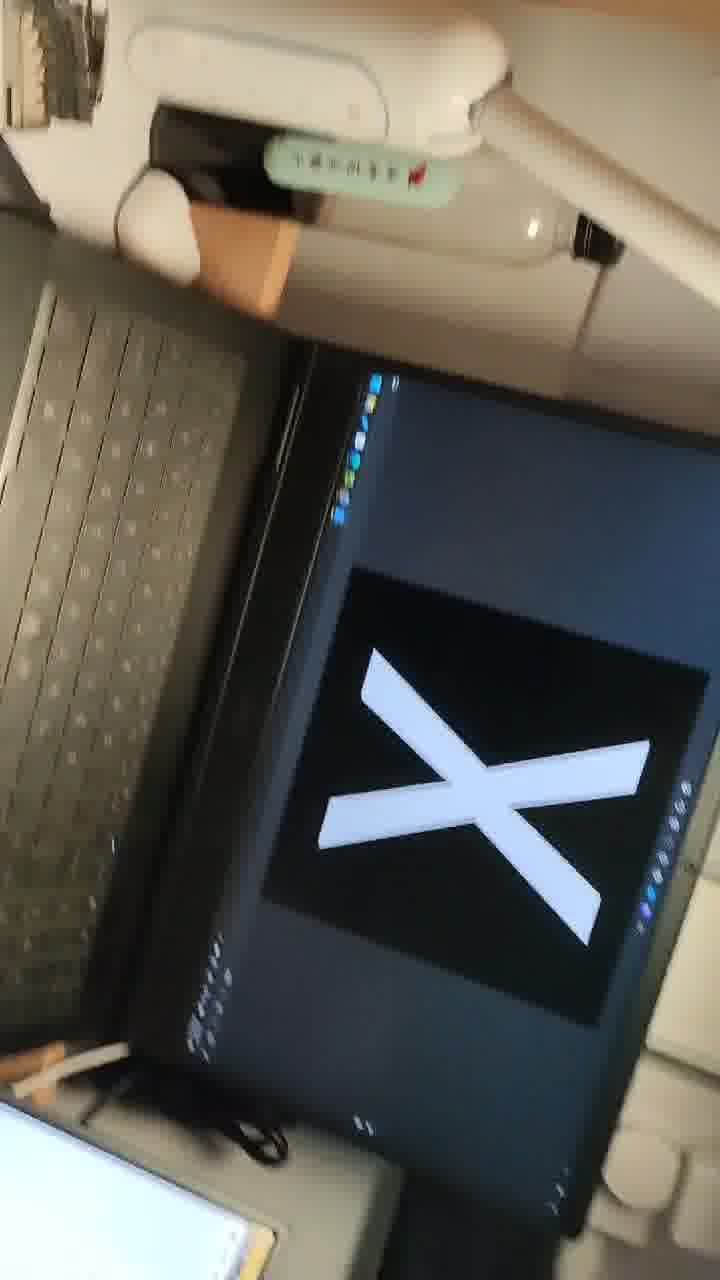X: (308, 607, 692, 975)
